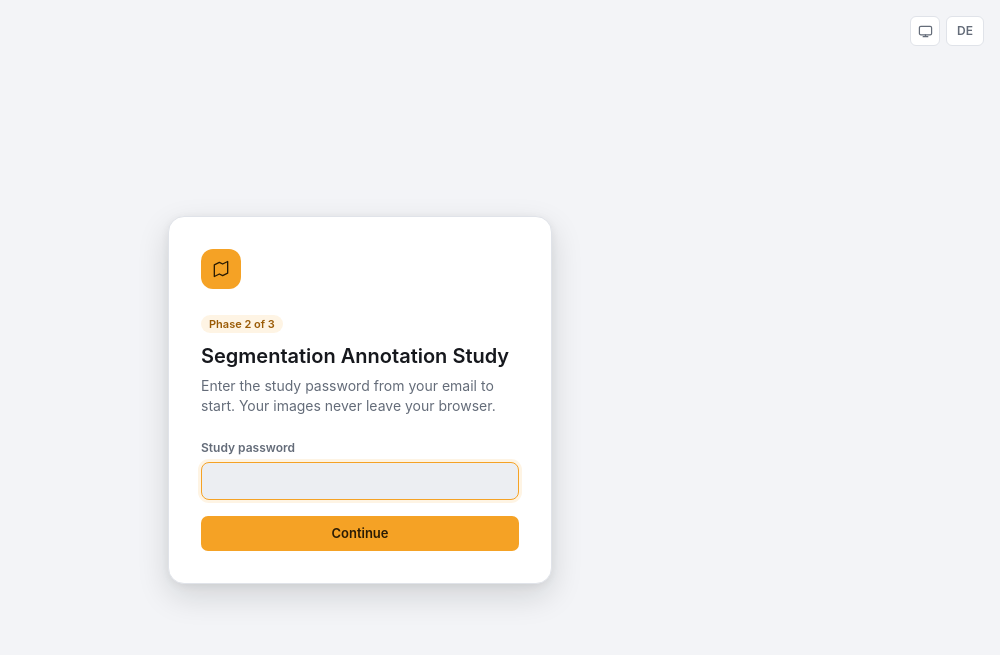
Test: App › phase 2 flow › walks from the password through the questions into the annotation workspace, with no consent step
This screenshot has width=1000, height=655.
Later steps or results of the test are not shown.
Type "CI-studie-2026-teil2" into the password field labelled "Study password" at (360, 481), box [201,462,519,500]
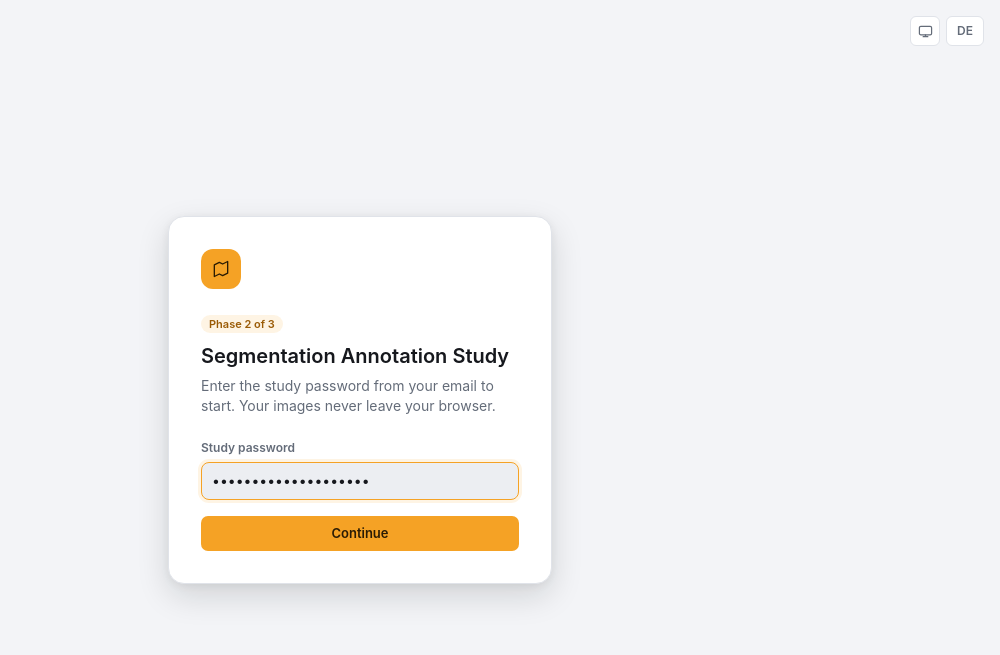
Click the button "Continue" at (360, 533), box [201,516,519,551]
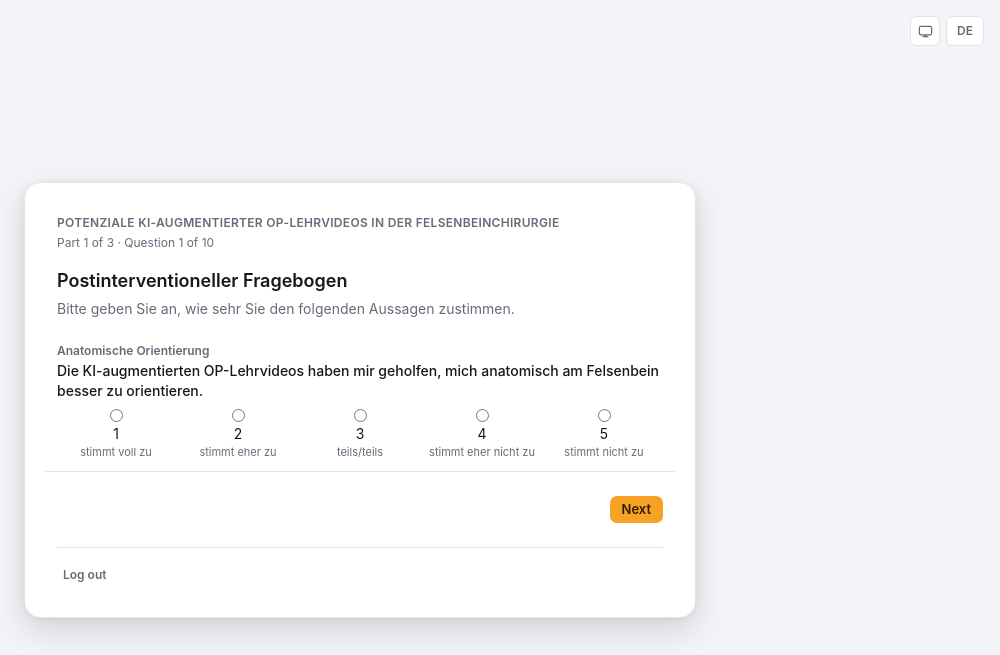
Expected: the text "Part 1 of 3 · Question 1 of 10" is shown, [57,235,214,250]
